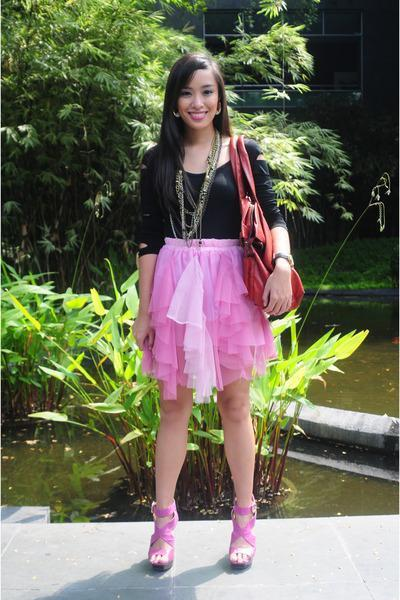bag: (229, 156, 304, 323)
shirt: (119, 137, 279, 254)
shoe: (139, 492, 259, 578)
skirt: (141, 228, 280, 403)
